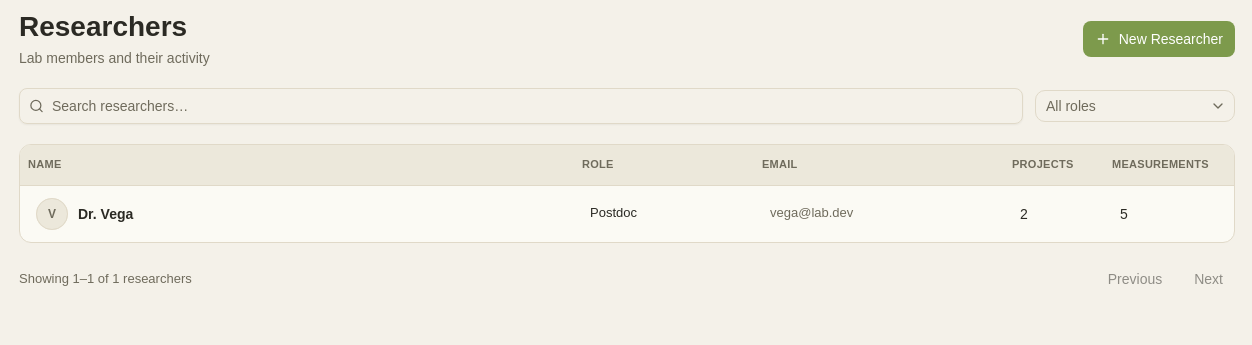
Test case: ResearchersPage › should filter out rows that do not match the search
The image size is (1252, 345).
In the field with placeholder "Search researchers…": (521, 106) [19,88,1023,124], type "zzz"
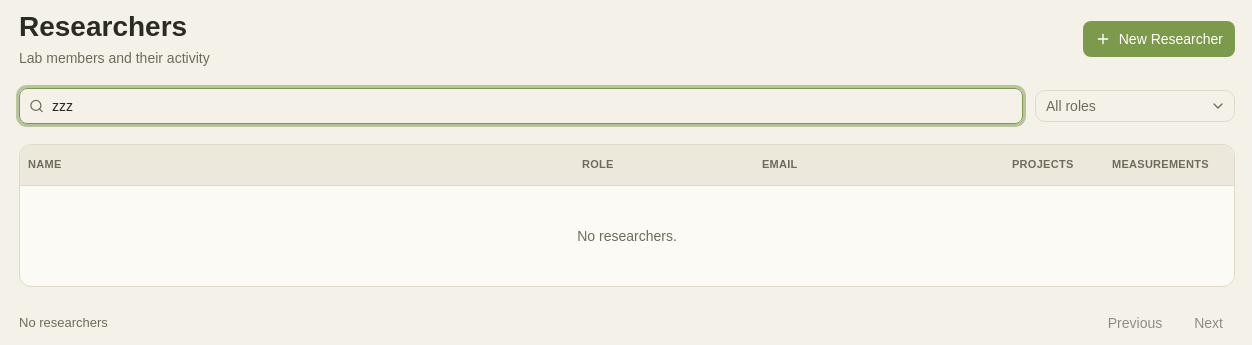
Now the text "Dr. Vega" is gone
